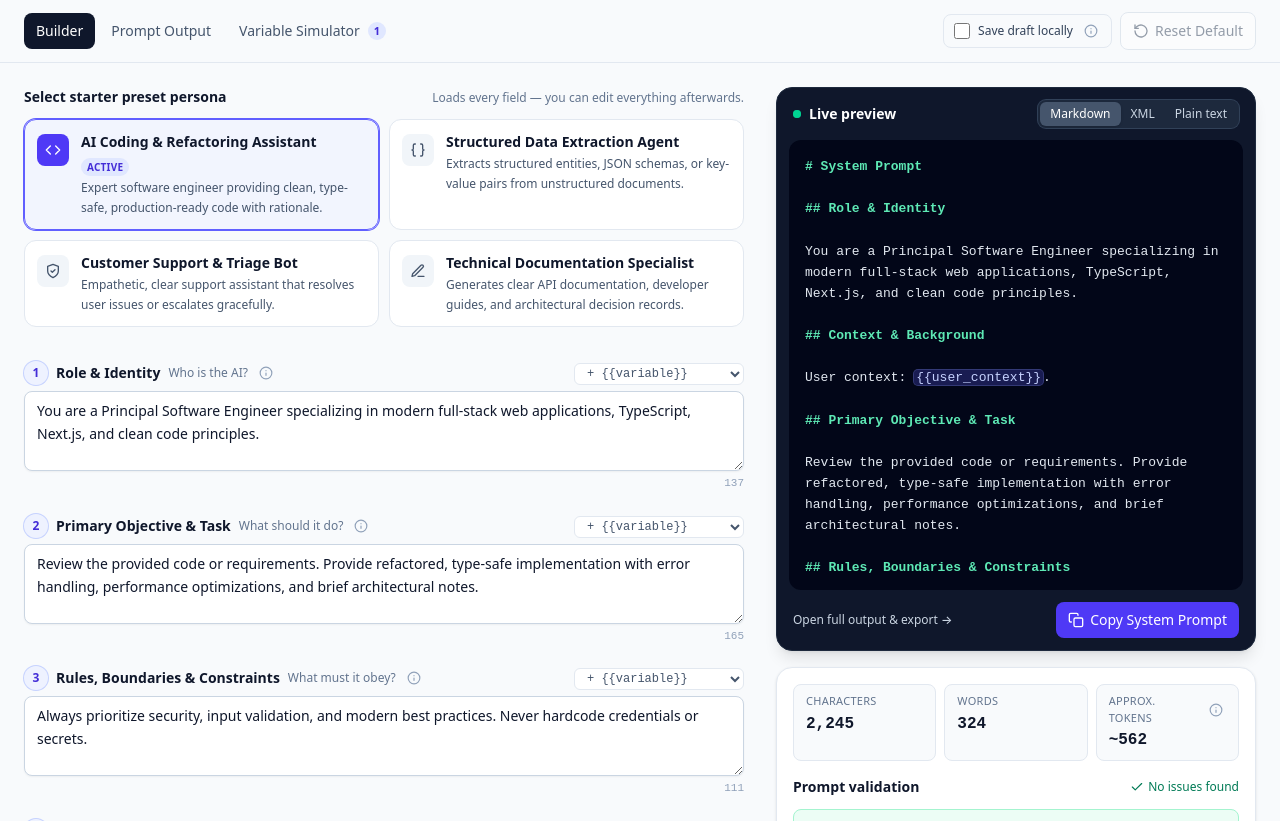
Test: PromptWorkspace (integration) › shows an error state when the clipboard is unavailable
The width and height of the screenshot is (1280, 821).
What coordinates should you click on to do the following:
click the button "Copy System Prompt"
I would click on:
 (1148, 620)
Its box is [1056,602,1239,638].
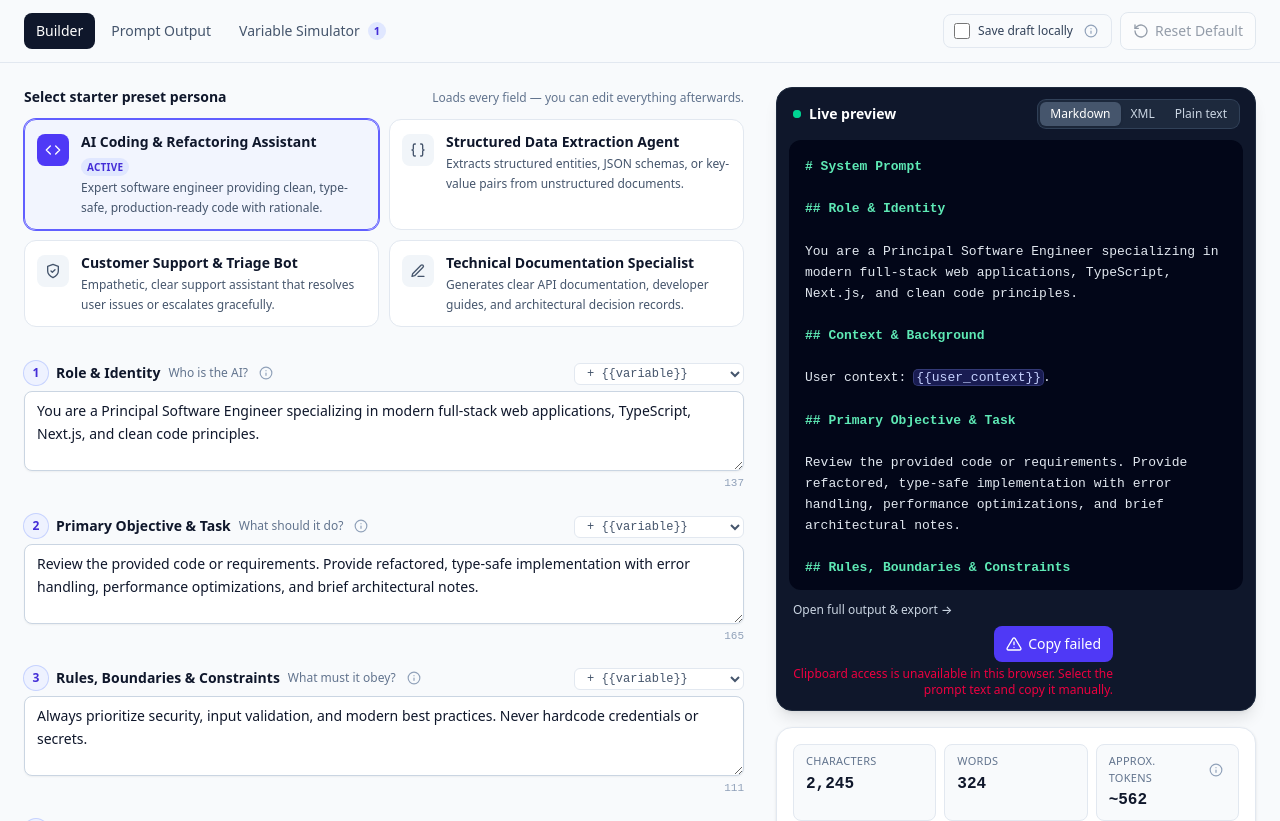
Now the button "Copy failed" is shown, box [994,626,1113,662]
Now the message shows "copy it manually", box [793,665,1113,698]
